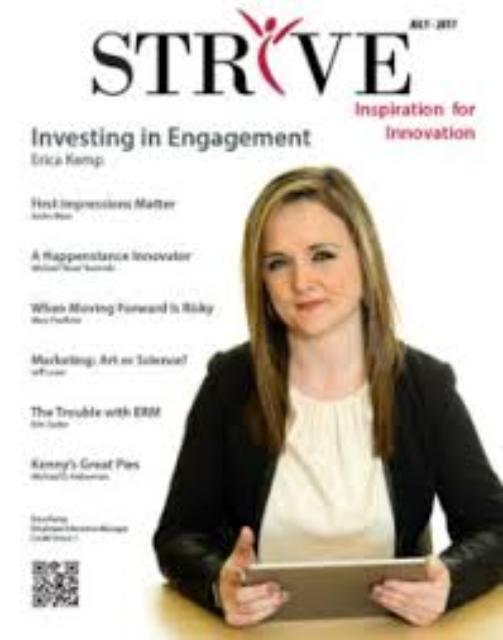cardboard paper: (243, 557, 433, 615)
